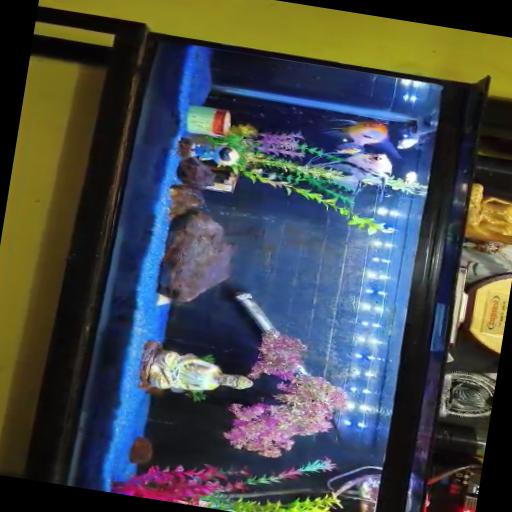Fish: (321, 119, 398, 157), (320, 153, 390, 192), (395, 111, 437, 149)
